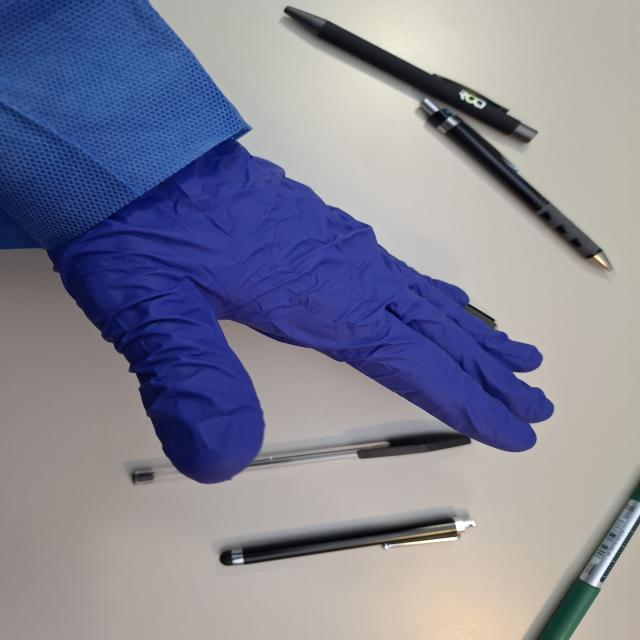glove_on: (40, 126, 557, 488)
